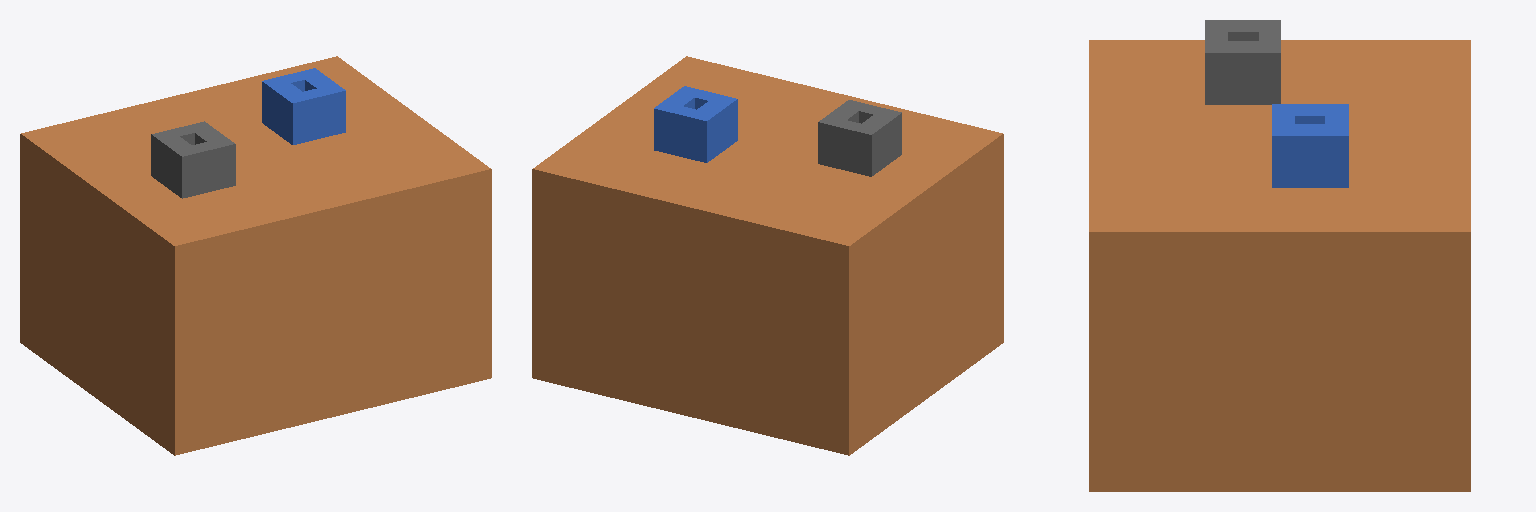
The robot description file, URDF, robot "peg_in_hole_fixtured_scene_0039_peg0010_tol02":
<?xml version="1.0"?>
<robot name="peg_in_hole_fixtured_scene_0039_peg0010_tol02">
  <material name="wood"><color rgba="0.82 0.56 0.35 1.0"/></material>
  <material name="start_fix"><color rgba="0.30 0.50 0.85 1.0"/></material>
  <material name="goal_fix"><color rgba="0.4706 0.4706 0.4706 1.0"/></material>
  <link name="box">
    <visual>
      <origin xyz="0.000000 0.000000 0.000000" rpy="0 0 0"/>
      <geometry><box size="0.475000 0.400000 0.300000"/></geometry>
      <material name="wood"/>
    </visual>
    <collision>
      <origin xyz="0.000000 0.000000 0.000000" rpy="0 0 0"/>
      <geometry><box size="0.475000 0.400000 0.300000"/></geometry>
    </collision>
    <visual>
      <origin xyz="0.090048 0.031668 0.155000" rpy="0 0 0"/>
      <geometry><box size="0.080000 0.080000 0.010000"/></geometry>
      <material name="start_fix"/>
    </visual>
    <collision>
      <origin xyz="0.090048 0.031668 0.155000" rpy="0 0 0"/>
      <geometry><box size="0.080000 0.080000 0.010000"/></geometry>
    </collision>
    <visual>
      <origin xyz="0.115298 0.031668 0.185000" rpy="0 0 0"/>
      <geometry><box size="0.029500 0.080000 0.050000"/></geometry>
      <material name="start_fix"/>
    </visual>
    <collision>
      <origin xyz="0.115298 0.031668 0.185000" rpy="0 0 0"/>
      <geometry><box size="0.029500 0.080000 0.050000"/></geometry>
    </collision>
    <visual>
      <origin xyz="0.064798 0.031668 0.185000" rpy="0 0 0"/>
      <geometry><box size="0.029500 0.080000 0.050000"/></geometry>
      <material name="start_fix"/>
    </visual>
    <collision>
      <origin xyz="0.064798 0.031668 0.185000" rpy="0 0 0"/>
      <geometry><box size="0.029500 0.080000 0.050000"/></geometry>
    </collision>
    <visual>
      <origin xyz="0.090048 0.059418 0.185000" rpy="0 0 0"/>
      <geometry><box size="0.021000 0.024500 0.050000"/></geometry>
      <material name="start_fix"/>
    </visual>
    <collision>
      <origin xyz="0.090048 0.059418 0.185000" rpy="0 0 0"/>
      <geometry><box size="0.021000 0.024500 0.050000"/></geometry>
    </collision>
    <visual>
      <origin xyz="0.090048 0.003918 0.185000" rpy="0 0 0"/>
      <geometry><box size="0.021000 0.024500 0.050000"/></geometry>
      <material name="start_fix"/>
    </visual>
    <collision>
      <origin xyz="0.090048 0.003918 0.185000" rpy="0 0 0"/>
      <geometry><box size="0.021000 0.024500 0.050000"/></geometry>
    </collision>
    <visual>
      <origin xyz="-0.116063 -0.038554 0.155000" rpy="0 0 0"/>
      <geometry><box size="0.080000 0.080000 0.010000"/></geometry>
      <material name="goal_fix"/>
    </visual>
    <collision>
      <origin xyz="-0.116063 -0.038554 0.155000" rpy="0 0 0"/>
      <geometry><box size="0.080000 0.080000 0.010000"/></geometry>
    </collision>
    <visual>
      <origin xyz="-0.090501 -0.038554 0.185000" rpy="0 0 0"/>
      <geometry><box size="0.028876 0.080000 0.050000"/></geometry>
      <material name="goal_fix"/>
    </visual>
    <collision>
      <origin xyz="-0.090501 -0.038554 0.185000" rpy="0 0 0"/>
      <geometry><box size="0.028876 0.080000 0.050000"/></geometry>
    </collision>
    <visual>
      <origin xyz="-0.141625 -0.038554 0.185000" rpy="0 0 0"/>
      <geometry><box size="0.028876 0.080000 0.050000"/></geometry>
      <material name="goal_fix"/>
    </visual>
    <collision>
      <origin xyz="-0.141625 -0.038554 0.185000" rpy="0 0 0"/>
      <geometry><box size="0.028876 0.080000 0.050000"/></geometry>
    </collision>
    <visual>
      <origin xyz="-0.116063 -0.010492 0.185000" rpy="0 0 0"/>
      <geometry><box size="0.022248 0.023876 0.050000"/></geometry>
      <material name="goal_fix"/>
    </visual>
    <collision>
      <origin xyz="-0.116063 -0.010492 0.185000" rpy="0 0 0"/>
      <geometry><box size="0.022248 0.023876 0.050000"/></geometry>
    </collision>
    <visual>
      <origin xyz="-0.116063 -0.066616 0.185000" rpy="0 0 0"/>
      <geometry><box size="0.022248 0.023876 0.050000"/></geometry>
      <material name="goal_fix"/>
    </visual>
    <collision>
      <origin xyz="-0.116063 -0.066616 0.185000" rpy="0 0 0"/>
      <geometry><box size="0.022248 0.023876 0.050000"/></geometry>
    </collision>
    <inertial>
      <mass value="500"/>
      <friction value="1.0"/>
      <inertia ixx="1000.0" ixy="0.0" ixz="0.0" iyy="1000.0" iyz="0.0" izz="1000.0"/>
    </inertial>
  </link>
</robot>

--- Facts derived from the render (not from the file) ---
The picture shows the robot from 3 angles, left to right: view 1: azimuth 30°, elevation 25°; view 2: azimuth 150°, elevation 25°; view 3: azimuth 270°, elevation 25°; orthographic projection.
Model peg_in_hole_fixtured_scene_0039_peg0010_tol02 with 1 links and 0 joints (none), rooted at box, posed all joints at 0.
Visible links, largest first — view 1: box; view 2: box; view 3: box.
Link boxes in pixels (box(x1,y1,x2,y2)): box: box(20, 56, 491, 455); box: box(532, 56, 1003, 455); box: box(1089, 20, 1470, 491).
Bounding box of the posed robot: 0.475 × 0.4 × 0.36 m (x, y, z).
Geometry: primitives only (box / cylinder / sphere), no mesh files.
